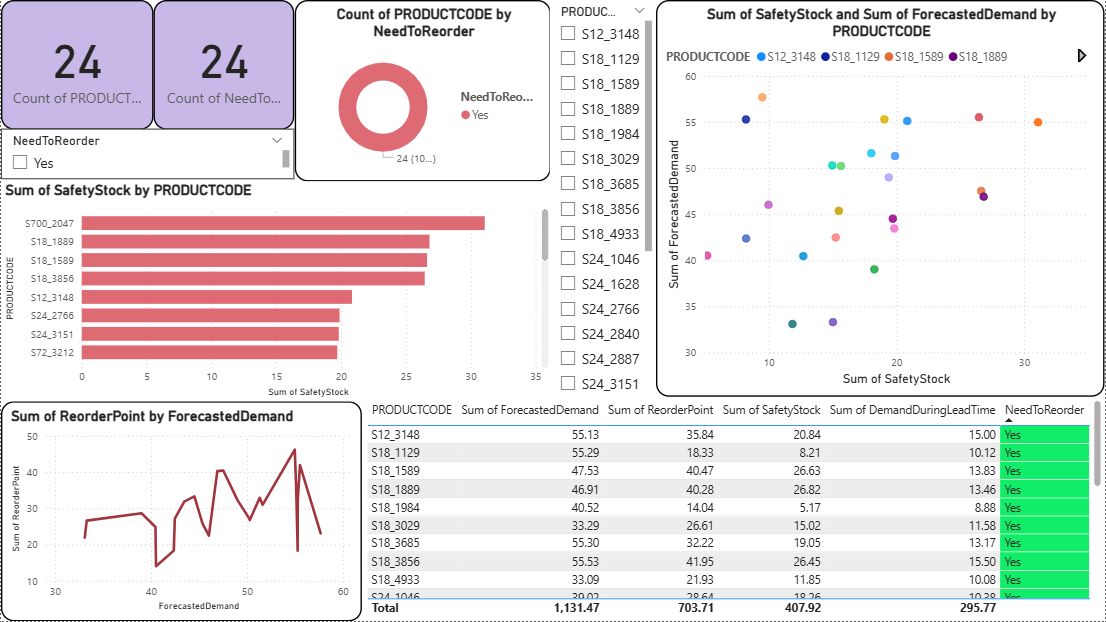

The dashboard page shown, as its layout file describes it:
{"tool":"powerbi","page":{"name":"Page 1","canvas":[1280,720],"ordinal":0},"visuals":[{"type":"card","fields":{"Values":["Count(Sheet1.PRODUCTCODE)"]},"box":[0,0,176.7,150],"z":0},{"type":"card","fields":{"Values":["CountNonNull(Sheet1.NeedToReorder)"]},"box":[176.7,0,163.3,150],"z":1000},{"type":"lineClusteredColumnComboChart","fields":{"Y2":["Sum(Sheet1.ReorderPoint)"],"Category":["Sheet1.ForecastedDemand"]},"box":[0,465,418.3,255],"z":2000},{"type":"tableEx","fields":{"Values":["Sheet1.PRODUCTCODE","Sum(Sheet1.ForecastedDemand)","Sum(Sheet1.ReorderPoint)","Sum(Sheet1.SafetyStock)","Sum(Sheet1.DemandDuringLeadTime)","Sheet1.NeedToReorder"]},"box":[418.3,460,861.7,260],"z":3000},{"type":"donutChart","fields":{"Category":["Sheet1.NeedToReorder"],"Y":["CountNonNull(Sheet1.PRODUCTCODE)"]},"box":[340,0,296.7,210],"z":4000},{"type":"clusteredBarChart","fields":{"Category":["Sheet1.PRODUCTCODE"],"Y":["Sum(Sheet1.SafetyStock)"]},"box":[0,210,640,255],"z":5000},{"type":"scatterChart","fields":{"X":["Sum(Sheet1.SafetyStock)"],"Y":["Sum(Sheet1.ForecastedDemand)"],"Series":["Sheet1.PRODUCTCODE"]},"box":[760,0,520,460],"z":6000},{"type":"slicer","fields":{"Values":["Sheet1.NeedToReorder"]},"box":[0,150,340,58.3],"z":7000},{"type":"slicer","fields":{"Values":["Sheet1.PRODUCTCODE"]},"box":[636.7,0,123.3,460],"z":8000}]}

Visuals, with their boxes in screenshot pixels (x1, y1, x2, y2), scaled from the page's 1280x720 canvas onto the 1106x622 screenshot:
card - Count(Sheet1.PRODUCTCODE): region(0, 0, 153, 130)
card - CountNonNull(Sheet1.NeedToReorder): region(153, 0, 294, 130)
lineClusteredColumnComboChart - Sum(Sheet1.ReorderPoint) x Sheet1.ForecastedDemand: region(0, 402, 361, 621)
tableEx - Sheet1.PRODUCTCODE x Sum(Sheet1.ForecastedDemand): region(361, 397, 1105, 621)
donutChart - Sheet1.NeedToReorder x CountNonNull(Sheet1.PRODUCTCODE): region(294, 0, 550, 181)
clusteredBarChart - Sheet1.PRODUCTCODE x Sum(Sheet1.SafetyStock): region(0, 181, 553, 402)
scatterChart - Sum(Sheet1.SafetyStock) x Sum(Sheet1.ForecastedDemand): region(657, 0, 1105, 397)
slicer - Sheet1.NeedToReorder: region(0, 130, 294, 180)
slicer - Sheet1.PRODUCTCODE: region(550, 0, 657, 397)
